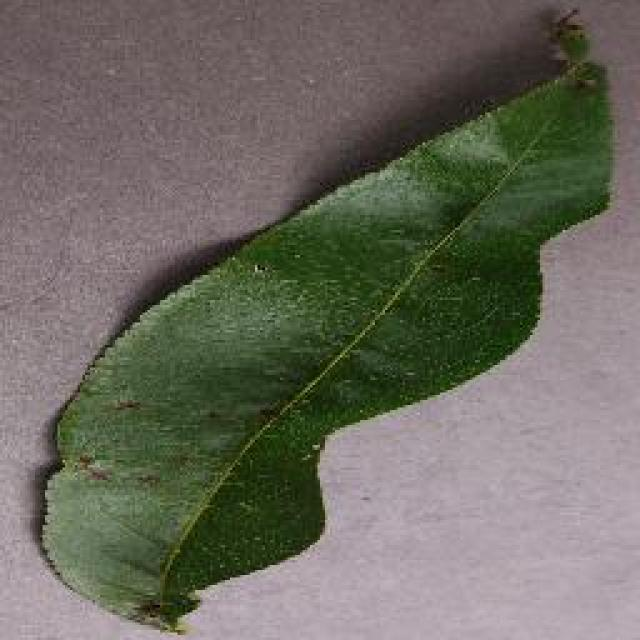Peach_Bacterial_Spot: (70, 378, 287, 528)
